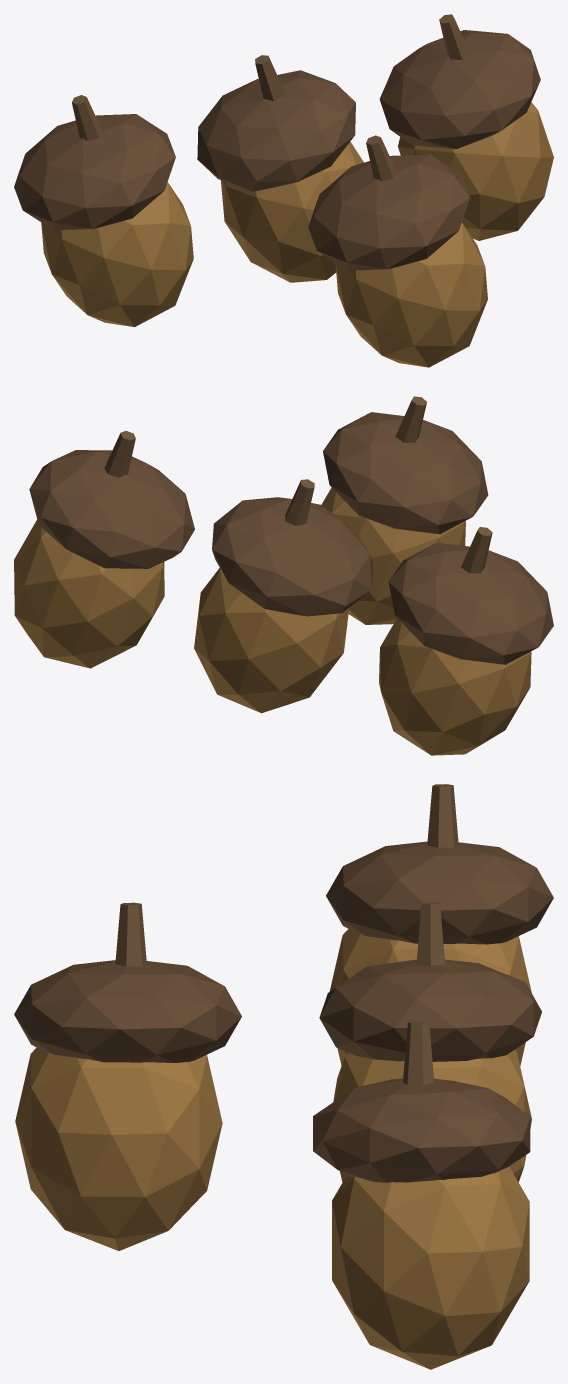
The model's file is pile-treeSeed-4.gltf.
3 views of the same model, one above another, from view 1: azimuth 30°, elevation 25°; view 2: azimuth 150°, elevation 25°; view 3: azimuth 270°, elevation 25° (orthographic). The views are drawn at different scales.
Parts seen in each view (by area): view 1: pile-treeSeed-4; view 2: pile-treeSeed-4; view 3: pile-treeSeed-4.
Part boxes in pixels (left/top/right/bottom): pile-treeSeed-4: left=14, top=14, right=553, bottom=367; pile-treeSeed-4: left=14, top=396, right=553, bottom=755; pile-treeSeed-4: left=14, top=784, right=553, bottom=1369.
Size of the model in its own units: 0.7737 by 0.3302 by 0.5195.
